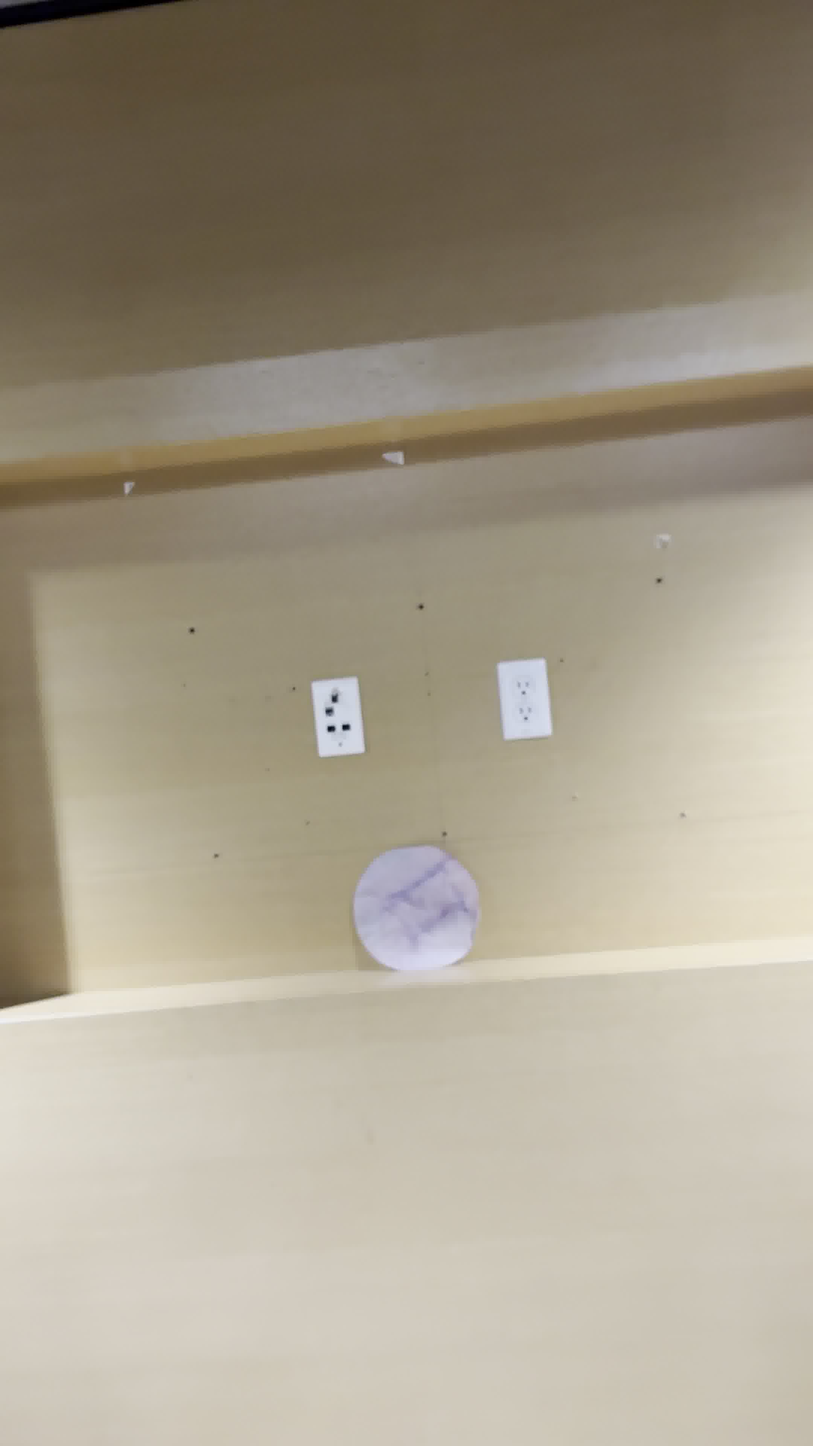Target: (350, 851, 480, 975)
